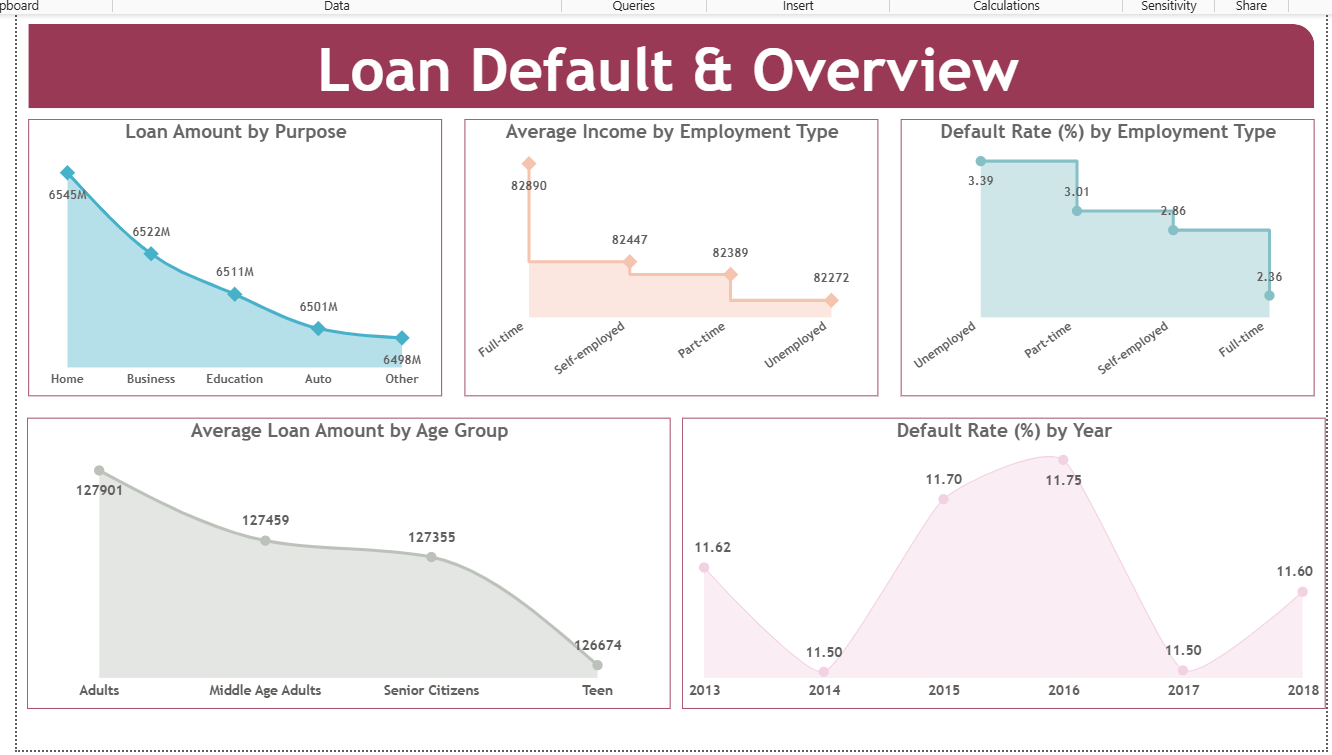

The page's visual inventory and layout, read from the dashboard file:
{"tool":"powerbi","page":{"name":"Loan  Default & Overview","canvas":[1280,720],"ordinal":0},"visuals":[{"type":"shape","box":[10.5,9.3,1258.1,82.6],"z":0},{"type":"lineChart","title":"Loan Amount by Purpose","fields":{"Y":["Measures Table.Loan Amount by Purpose"],"Category":["Loan_default.LoanPurpose"]},"box":[11,102.7,404.8,271.5],"z":1000},{"type":"lineChart","title":"Average Income by Employment Type","fields":{"Y":["Measures Table.Average Income by Employment Type"],"Category":["Loan_default.EmploymentType"]},"box":[437.8,102.7,404.8,271.5],"z":2000},{"type":"lineChart","title":"Default Rate (%) by Employment Type","fields":{"Y":["Measures Table.Default Rate by Empoyment type"],"Category":["Loan_default.EmploymentType"]},"box":[864.5,102.7,404.8,271.5],"z":3000},{"type":"lineChart","title":"Average Loan Amount by Age Group","fields":{"Y":["Measures Table.Average Loan by Age Group"],"Category":["Loan_default.Age Groups"]},"box":[10,394.4,629.6,284.9],"z":4000},{"type":"lineChart","title":"Default Rate (%) by Year","fields":{"Y":["Measures Table.Default Rate by Year"],"Category":["Loan_default.Year"]},"box":[650.7,394.4,629.6,284.9],"z":5000}]}

Visuals, with their boxes on the page's 1280x720 design canvas (x1, y1, x2, y2). These are canvas units, not pixel positions in the 1332x755 screenshot, which may show the page scaled, cropped or inside an application window:
shape: [10,9,1269,92]
"Loan Amount by Purpose" lineChart: [11,103,416,374]
"Average Income by Employment Type" lineChart: [438,103,843,374]
"Default Rate (%) by Employment Type" lineChart: [864,103,1269,374]
"Average Loan Amount by Age Group" lineChart: [10,394,640,679]
"Default Rate (%) by Year" lineChart: [651,394,1280,679]
